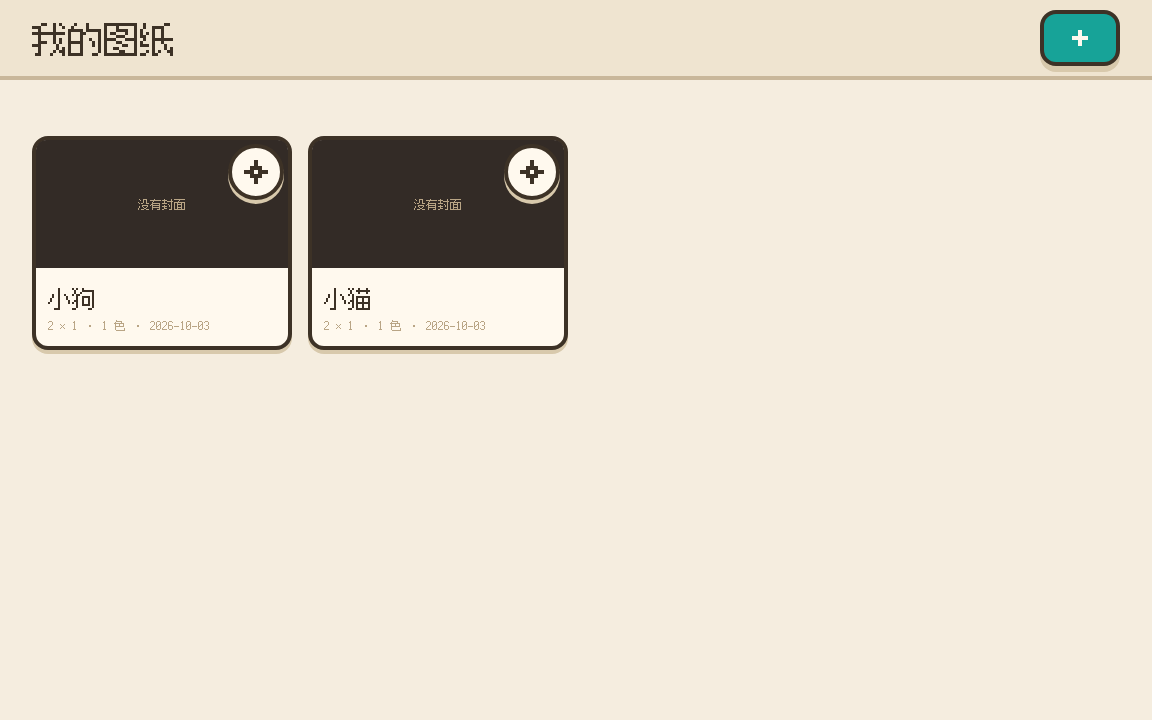
LibraryPage › 重命名后列表显示新名字
The image size is (1152, 720).
Step 1. Click the button with test id "card-menu" → click(256, 172), box x1=228 y1=144 x2=284 y2=200
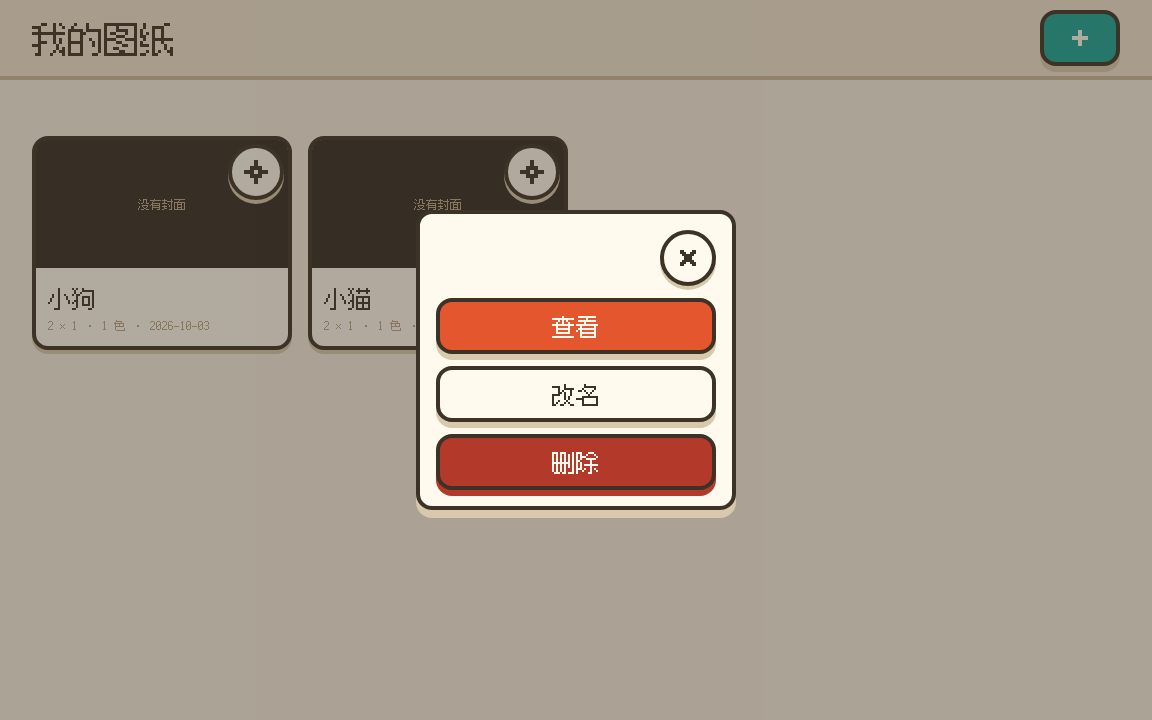
Step 2. Click the button with test id "rename-project" → click(576, 394), box x1=436 y1=366 x2=716 y2=422
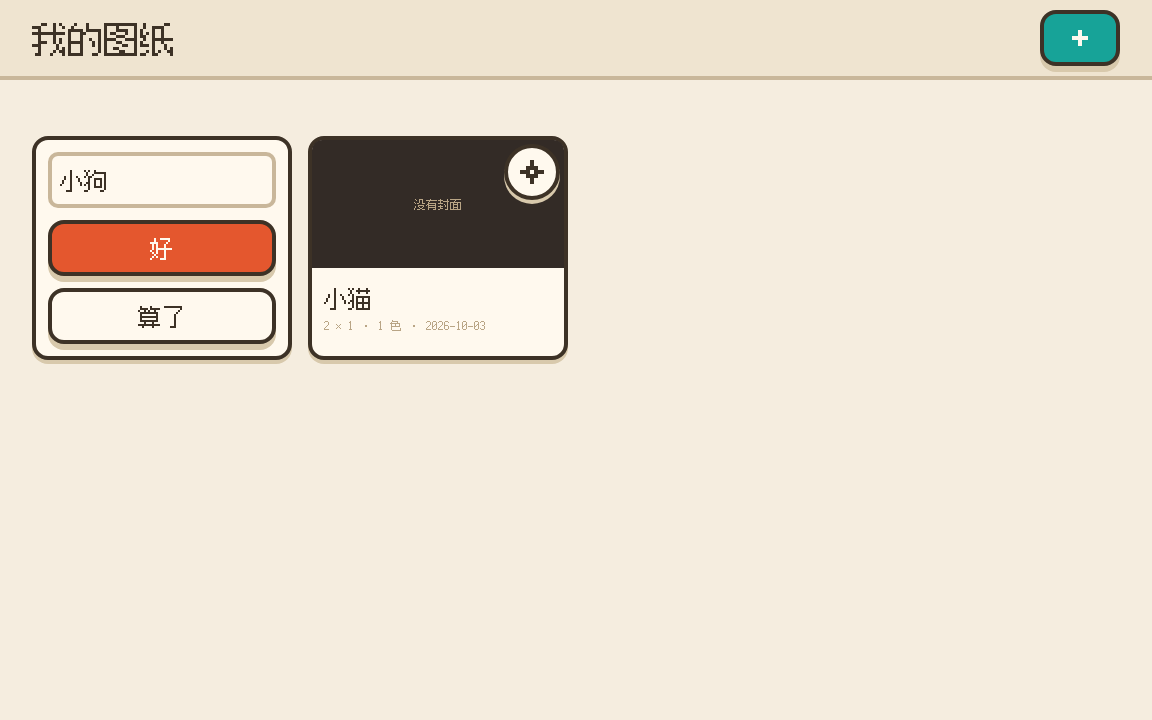
Step 3. Replace the text in the field with test id "rename-input" with "新名字" → (162, 180), box x1=48 y1=152 x2=276 y2=208
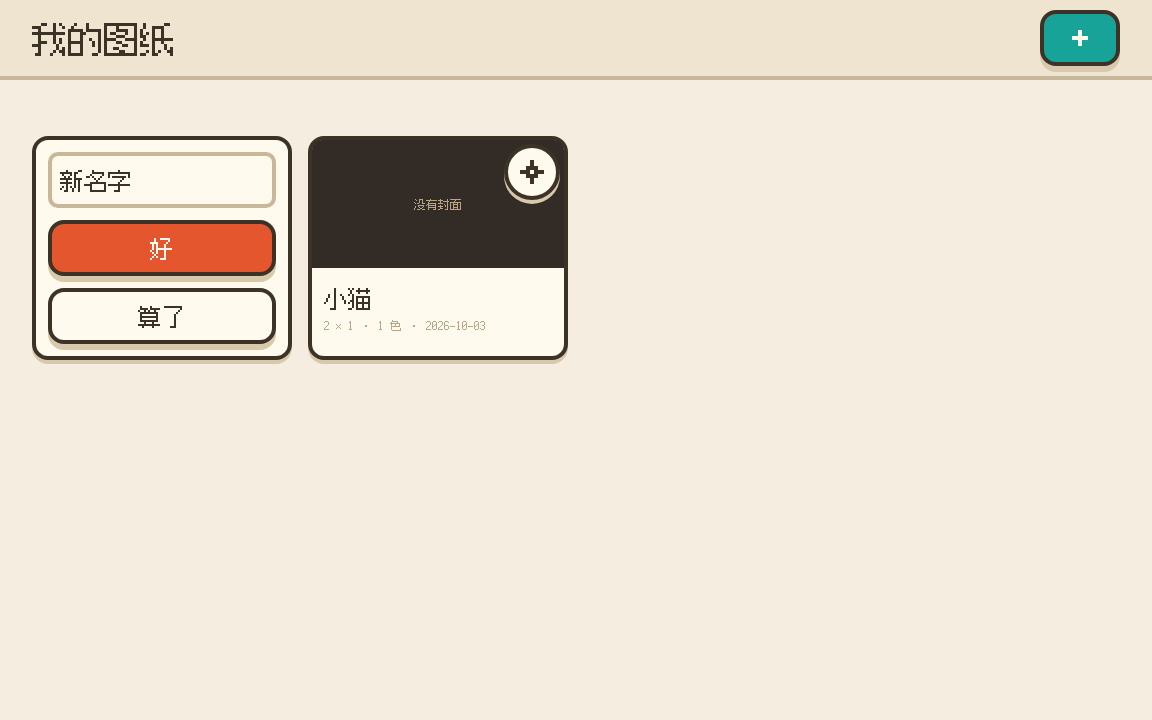
Step 4. Click the button with test id "rename-confirm" → click(162, 248), box x1=48 y1=220 x2=276 y2=276
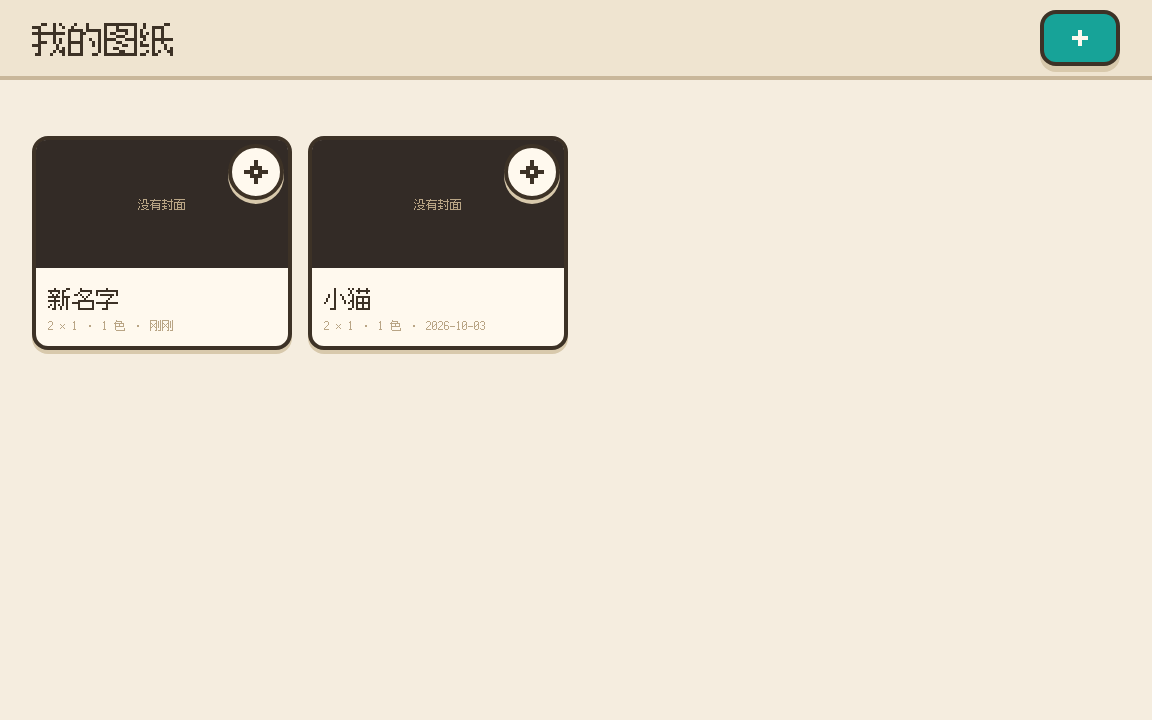
Expected: the button with test id "project-name" does not show "小狗"
Expected: the text with test id "project-name" reads "新名字", x1=48 y1=282 x2=120 y2=314
